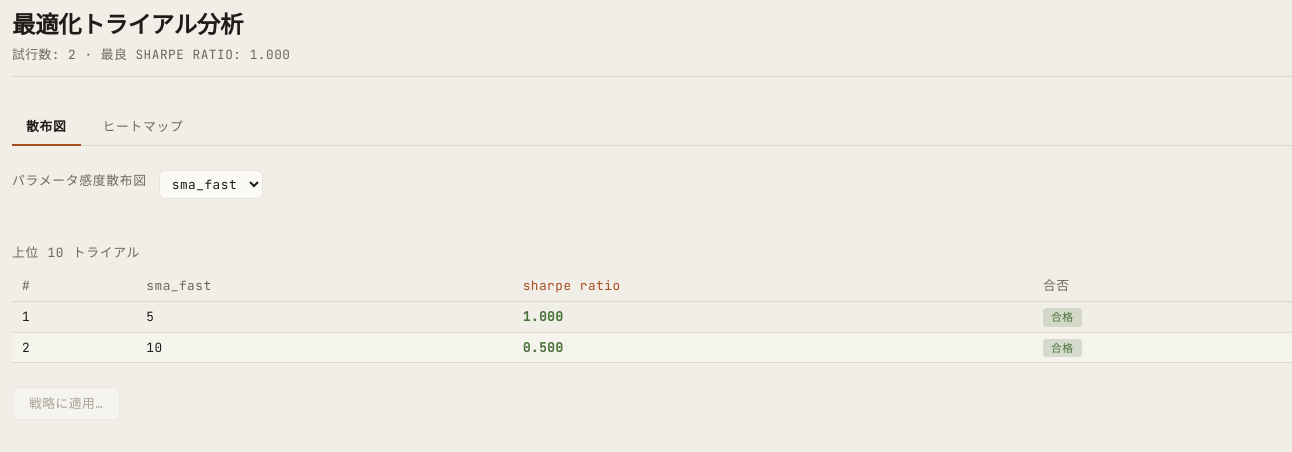
Test case: <OptimizeScreen /> ビュー切替 › 数値パラメータが 1 種以下のときは説明メッセージを表示する
Step 1. Click the tab "ヒートマップ" → {"x": 143, "y": 128}, box 88,109 -> 198,146
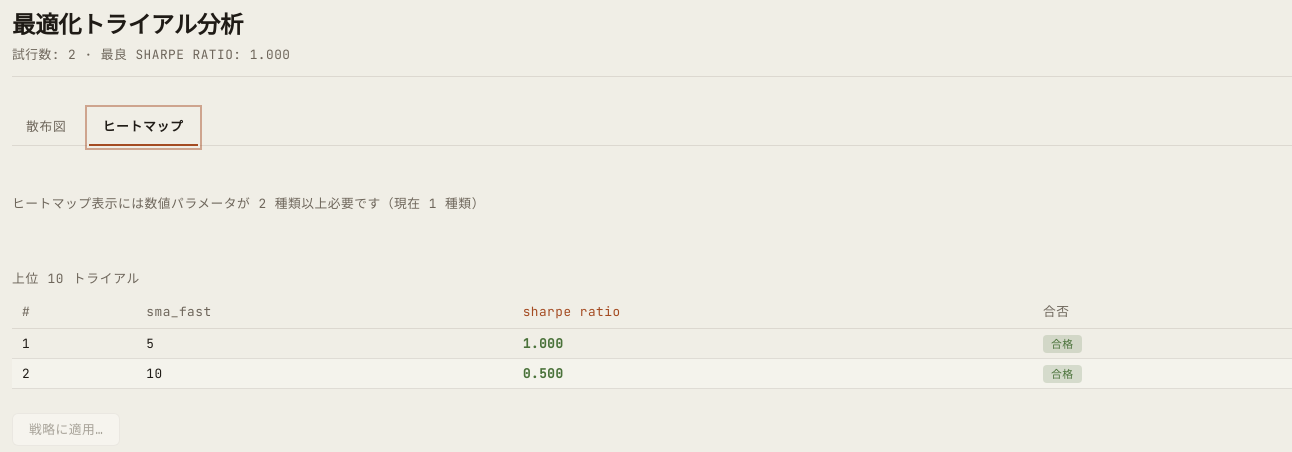
Now the text "ヒートマップ表示には数値パラメータが 2 種類以上必要です（現在 1 種類）" is shown, box 12,195 -> 485,212
